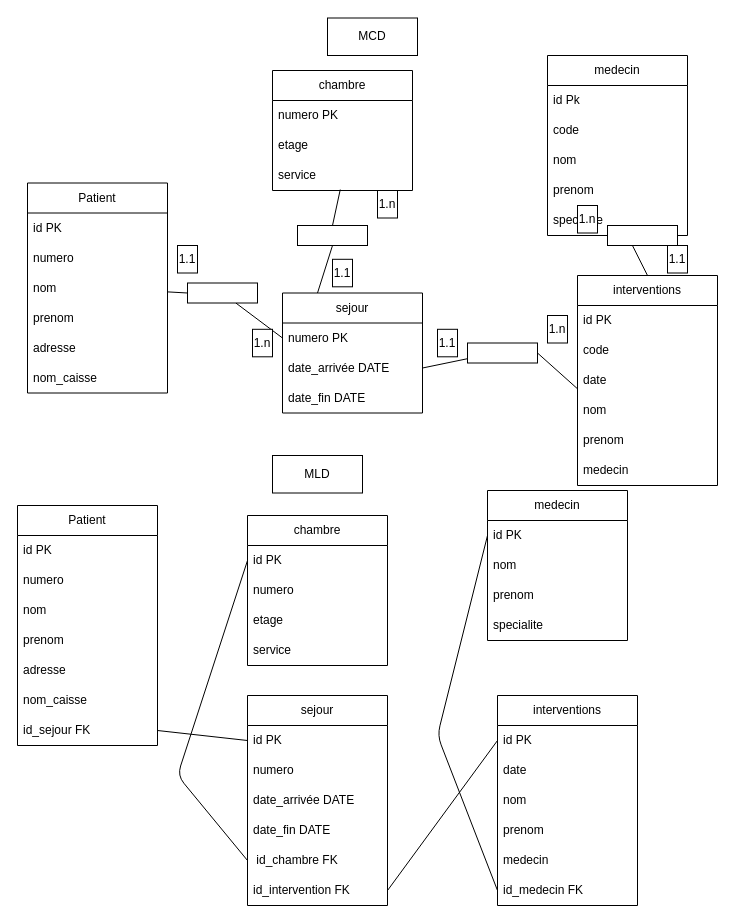
Image size: 735x923. Some labels were removed from this diagram. Here are the shapes that lost their labels. From the top down, the box of each, then its label:
(296, 224, 368, 246): attribuer
(606, 224, 678, 246): diriger
(186, 282, 258, 303): effectuer
(466, 342, 538, 363): pratiquer
